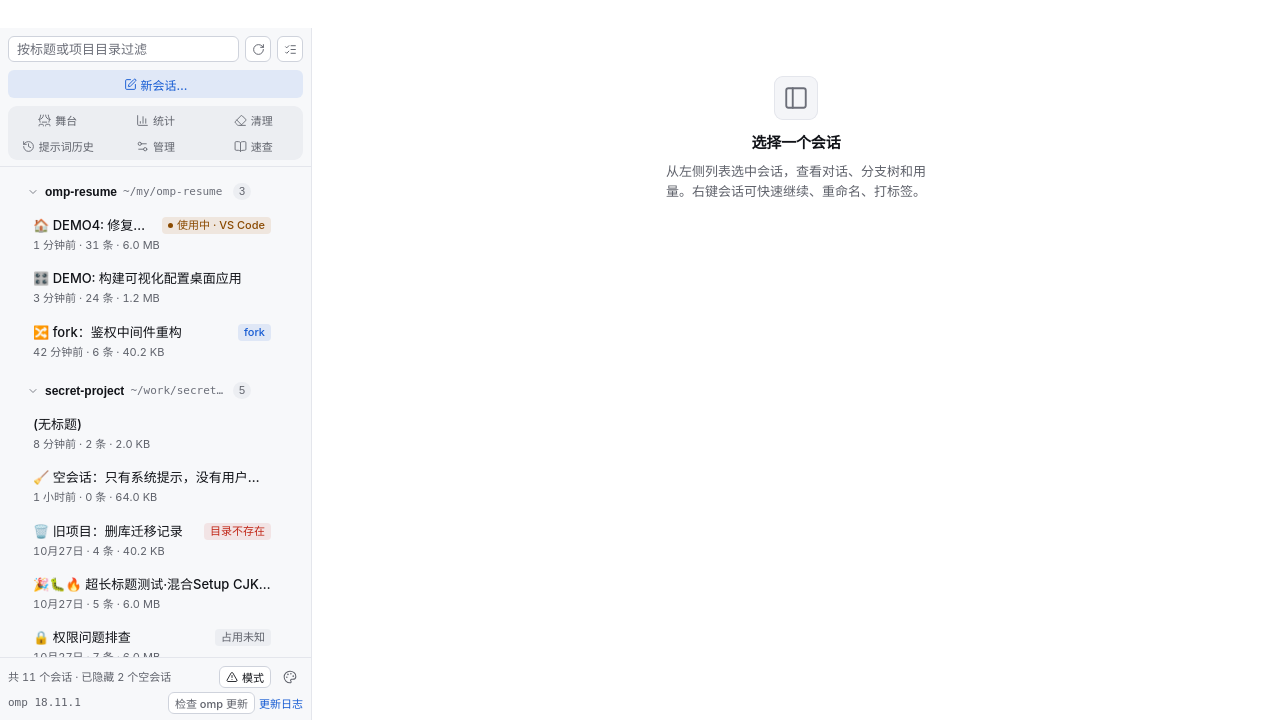
Test: 删除流程 › 部分失败逐条展示，不被吞掉
Check: the text "🎛️ DEMO: 构建可视化配置桌面应用" is shown, box [33,269,271,288]
Click the 10th checkbox labelled "🔒 权限问题排查 占用未知 10月27日 · 7 条 · 6.0 MB" at (82, 637), box [33,629,271,664]
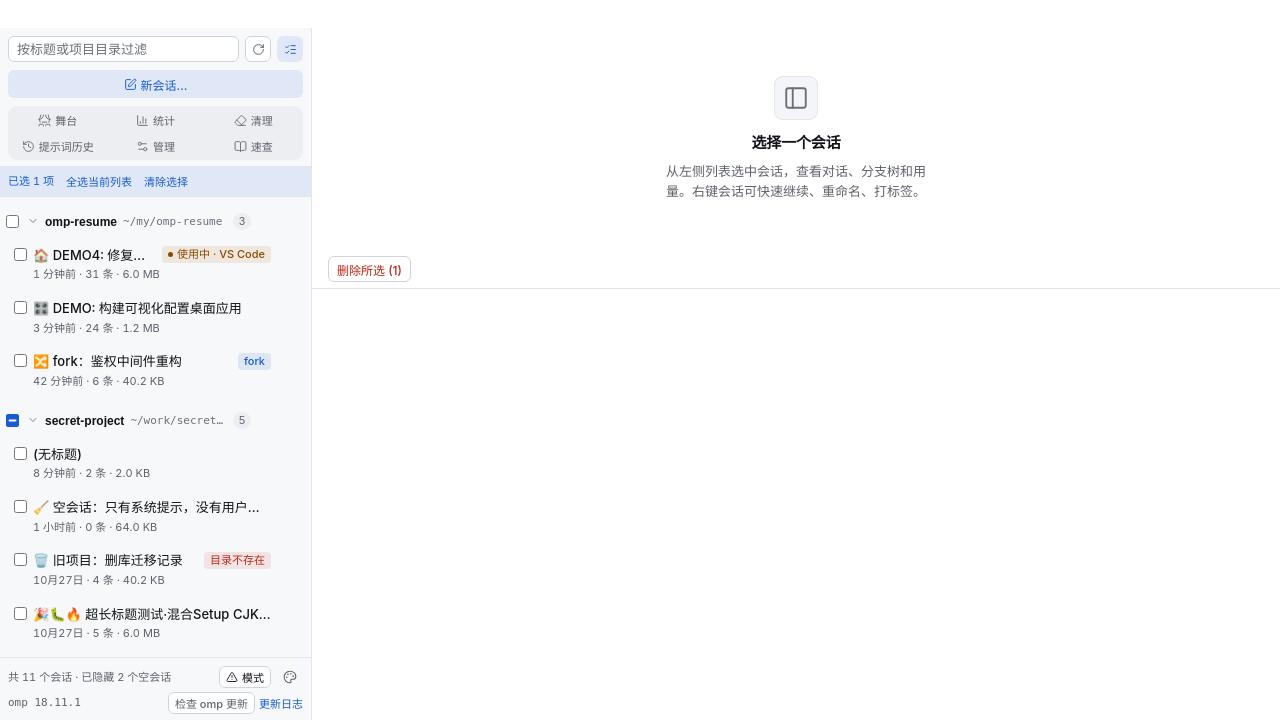
Click the checkbox named "选择 (无标题)" at (20, 453), box [14,446,27,460]
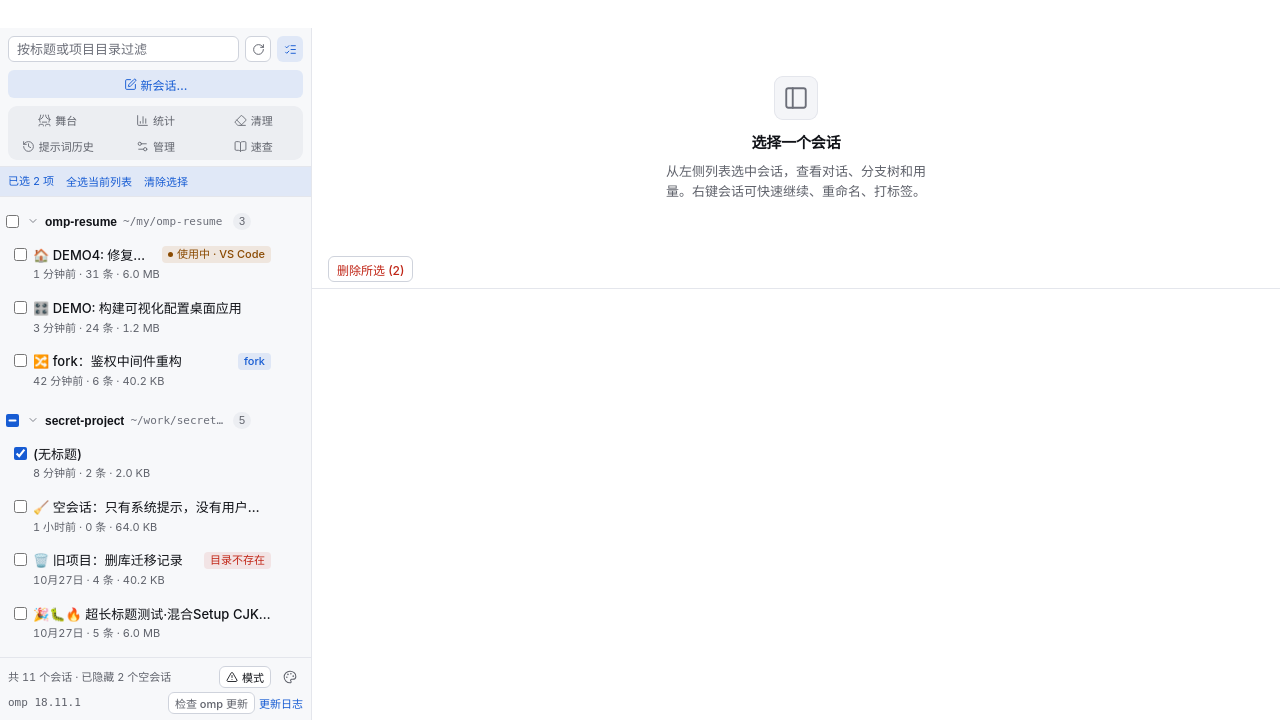
Click the button "删除所选 (2)" at (371, 269), box [328,256,414,282]
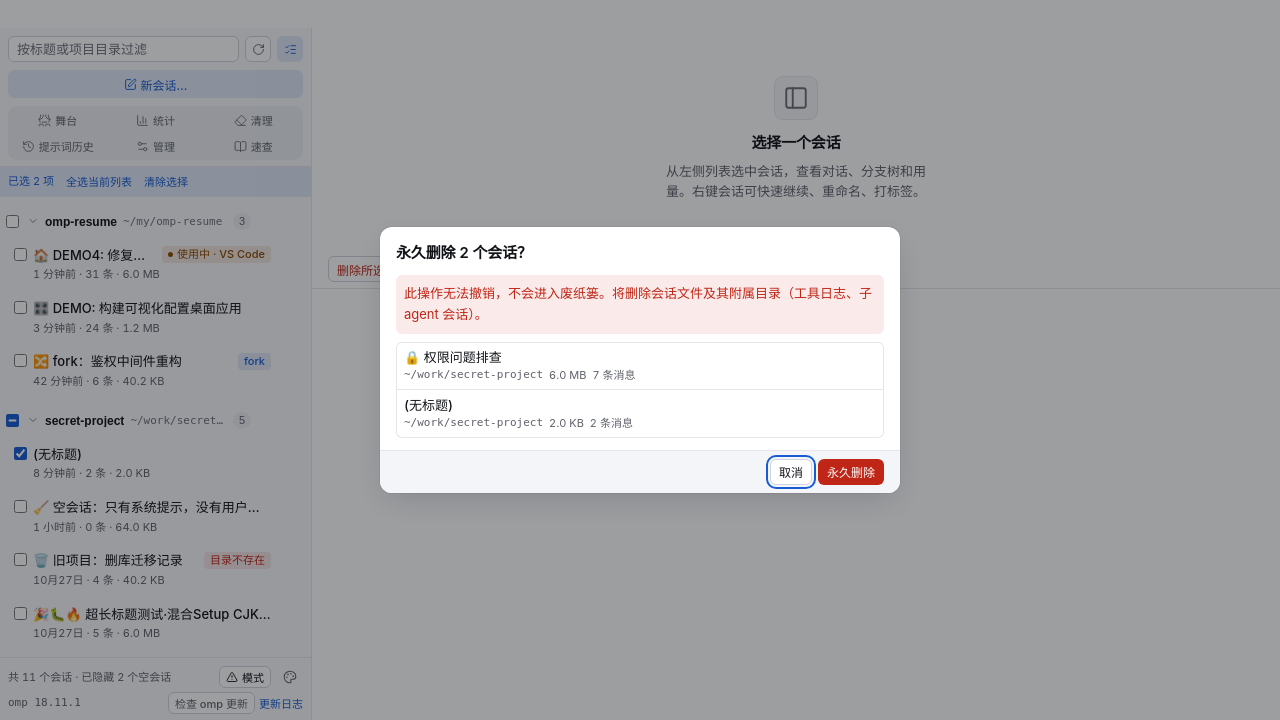
Click the button "永久删除" at (851, 472), box [818,458,884,484]
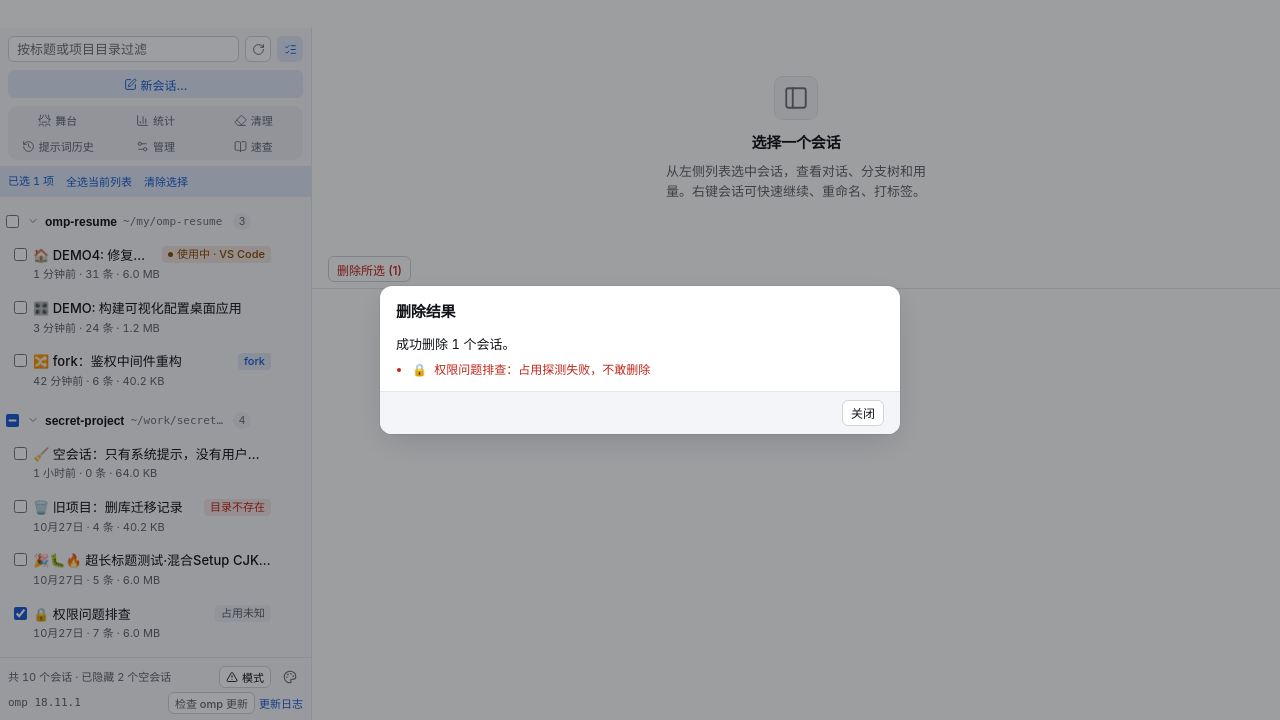
Check: the list is shown, box [412,362,650,377]
Check: the text "成功删除 1 个会话。" is shown, box [396,336,515,352]
Check: the list shows "占用探测失败", box [518,362,650,377]
